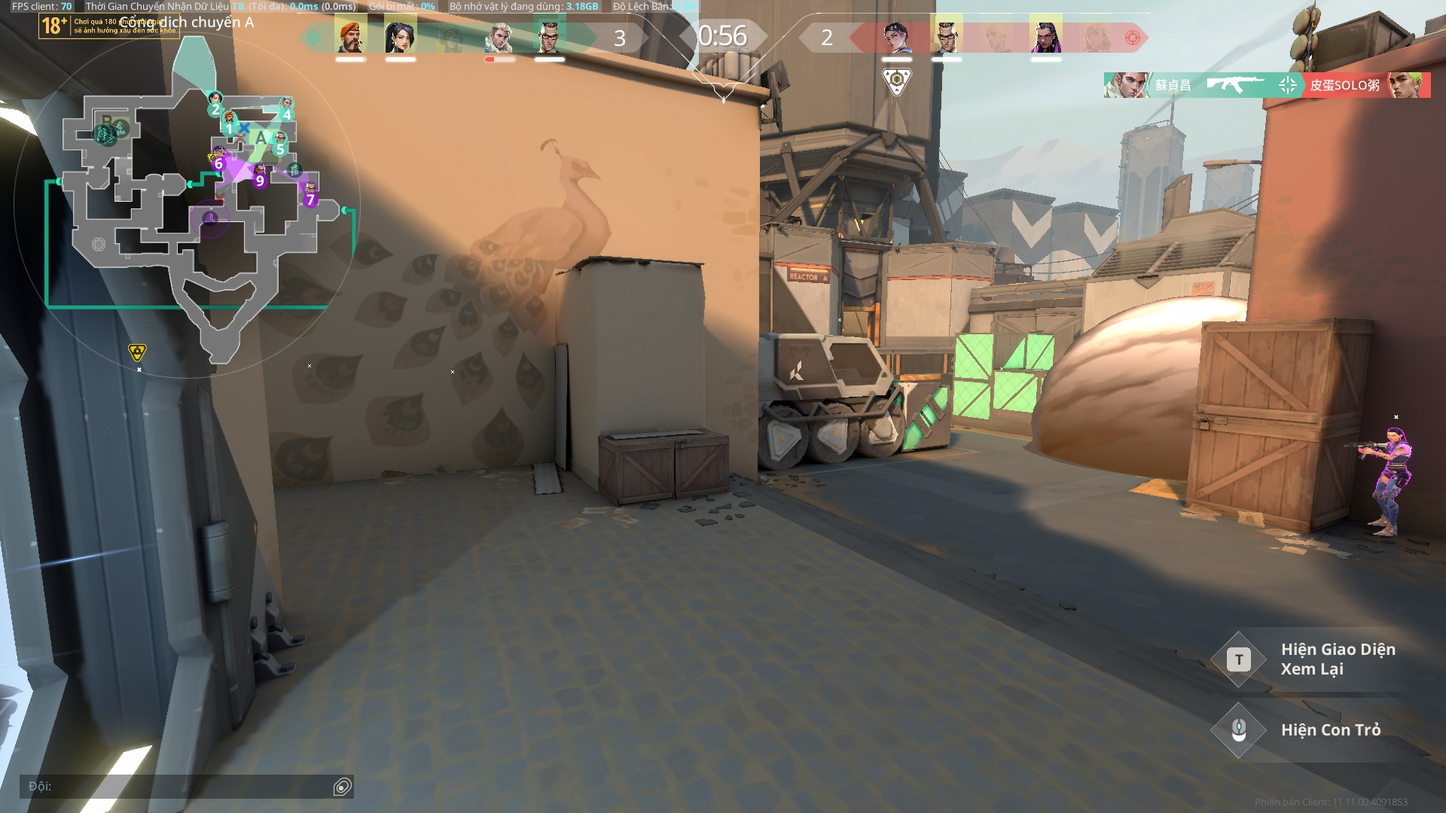body: (1385, 443, 1411, 474)
head: (1385, 426, 1402, 443)
